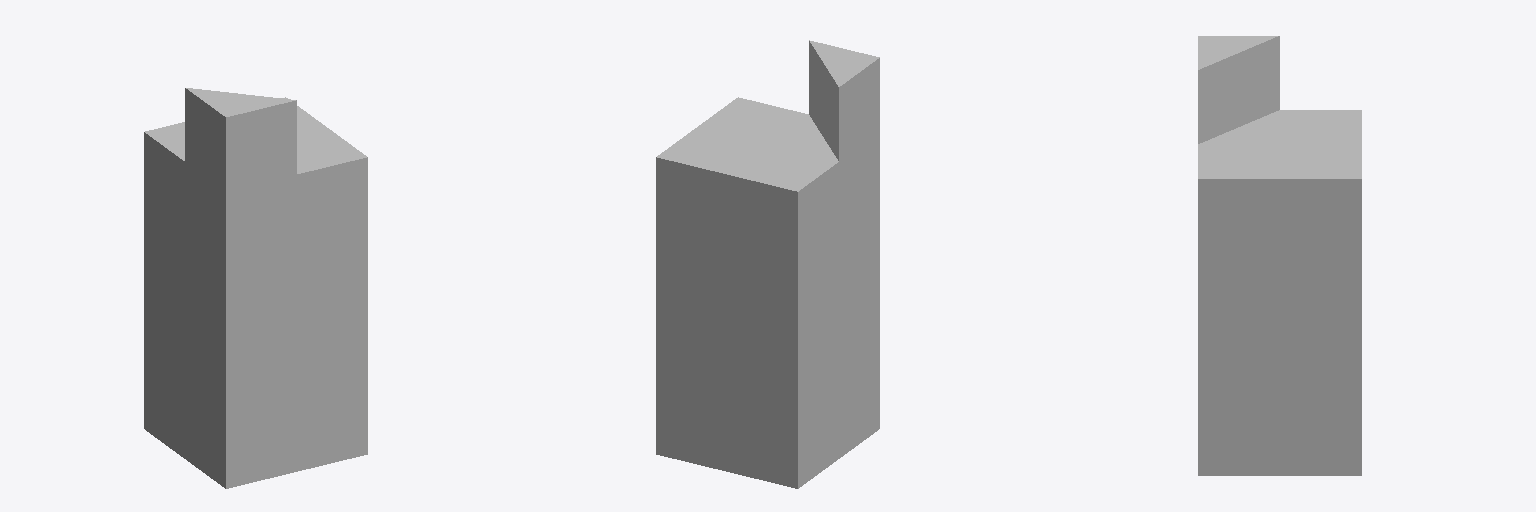
Rendered from Corner5.obj.
3 renders of one model, left to right at view 1: azimuth 30°, elevation 25°; view 2: azimuth 150°, elevation 25°; view 3: azimuth 270°, elevation 25°, orthographic.
Visible parts, largest first — view 1: RampCorner; view 2: RampCorner; view 3: RampCorner.
Boxes of the visible parts, x1,y1,x2,y2 form: RampCorner: [144, 88, 367, 488]; RampCorner: [656, 40, 879, 488]; RampCorner: [1198, 36, 1361, 475].
Size of the model in its own units: 2 by 5 by 2.